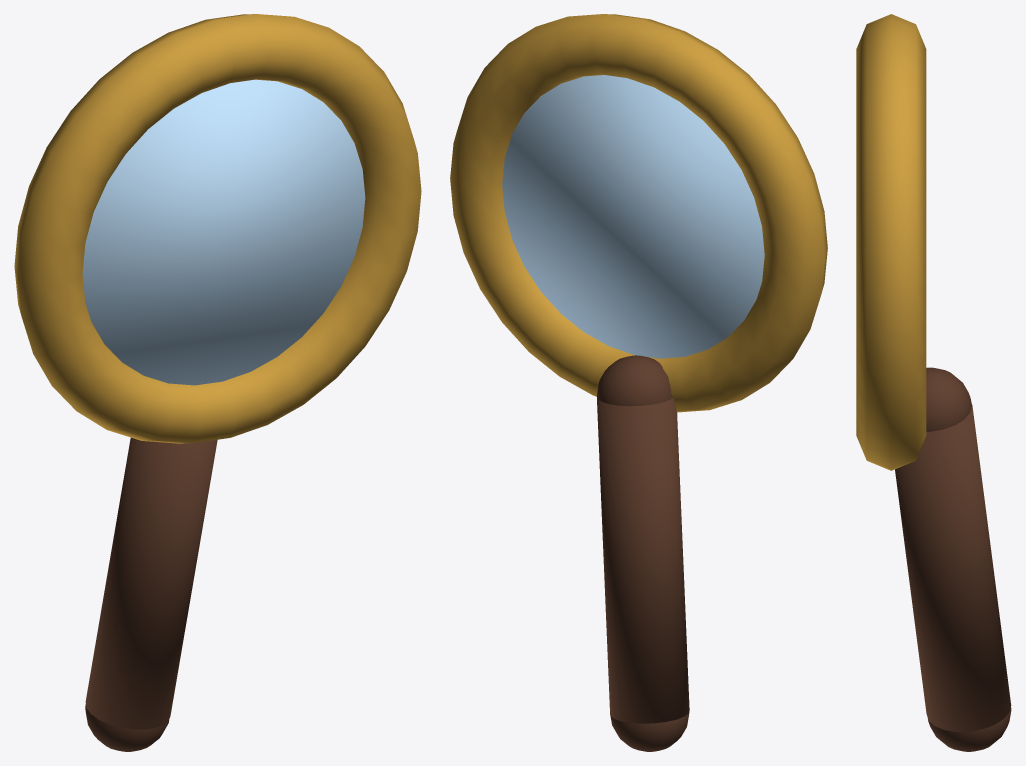
The model's file is tool_loupe.glb.
The picture shows the model from 3 angles, left to right: view 1: azimuth 30°, elevation 25°; view 2: azimuth 150°, elevation 25°; view 3: azimuth 270°, elevation 25°; orthographic projection. The views are drawn at different scales.
Parts seen in each view (by area): view 1: rim, lens, handle, handle_a; view 2: rim, lens, handle, handle_b, handle_a; view 3: rim, handle, handle_b, handle_a.
Boxes of the visible parts, x1,y1,x2,y2 form: rim: (14,14,421,443); lens: (82,79,365,385); handle: (85,437,217,729); handle_a: (85,704,169,751); rim: (450,14,827,412); lens: (502,75,764,358); handle: (597,398,689,723); handle_b: (597,355,672,406); handle_a: (610,710,689,751); rim: (856,14,926,470); handle: (895,404,1011,731); handle_b: (926,367,971,431); handle_a: (927,707,1011,751).
Bounding box in the file's own units: 0.236 × 0.42 × 0.08.
